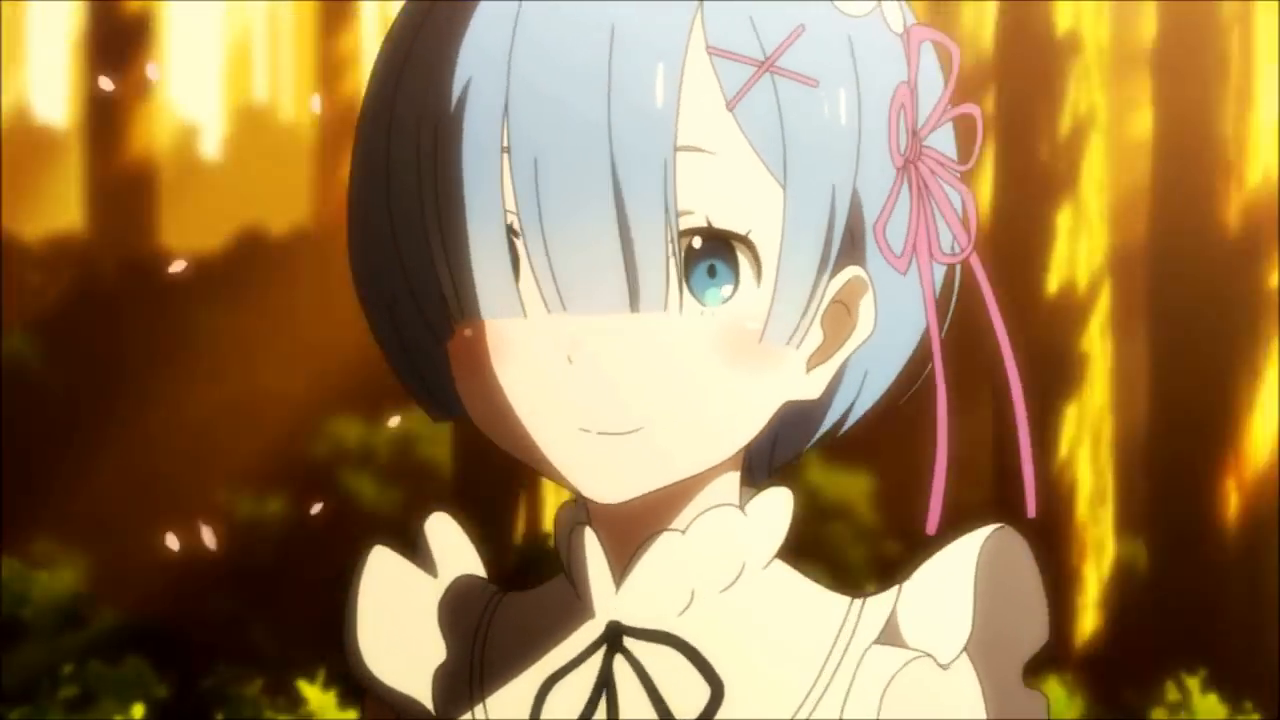REM: (335, 1, 994, 511)
